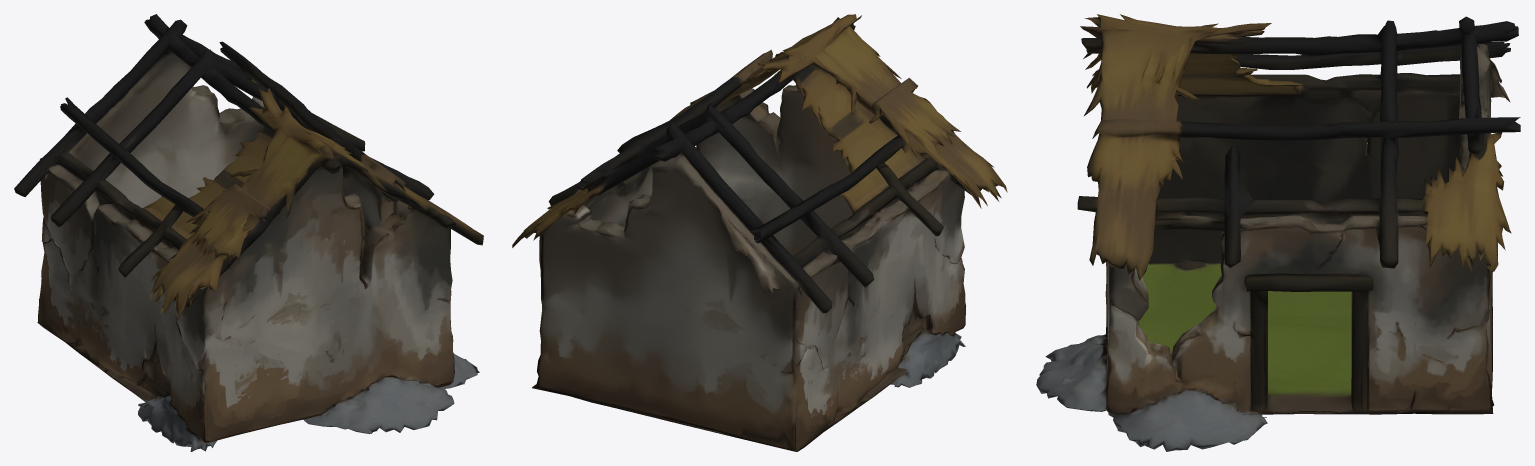
File: d7544b6e-4ecf-4ba0-ab30-47ec2a56631a_model_url.glb
3 views of the same model, side by side, from view 1: azimuth 30°, elevation 25°; view 2: azimuth 150°, elevation 25°; view 3: azimuth 270°, elevation 25° (orthographic). The views are drawn at different scales.
Visible parts, largest first — view 1: tripo_node_d7544b6e-4ecf-4ba0-ab30-47ec2a56631a; view 2: tripo_node_d7544b6e-4ecf-4ba0-ab30-47ec2a56631a; view 3: tripo_node_d7544b6e-4ecf-4ba0-ab30-47ec2a56631a.
Boxes of the visible parts, x1,y1,x2,y2 form: tripo_node_d7544b6e-4ecf-4ba0-ab30-47ec2a56631a: [14, 14, 483, 451]; tripo_node_d7544b6e-4ecf-4ba0-ab30-47ec2a56631a: [512, 14, 1007, 451]; tripo_node_d7544b6e-4ecf-4ba0-ab30-47ec2a56631a: [1036, 14, 1520, 451].
Size of the model in its own units: 0.927 by 0.7878 by 1.
Materials: 1 (1 with a texture image).
